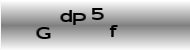5: (90, 7, 104, 20)
G: (35, 26, 52, 39)
P: (72, 12, 86, 26)
d: (58, 9, 72, 22)
f: (107, 23, 119, 37)
